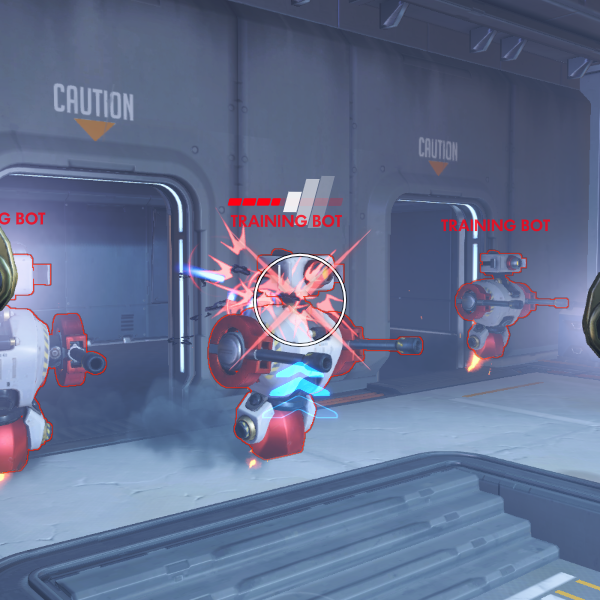hpbar: (227, 197, 344, 207)
